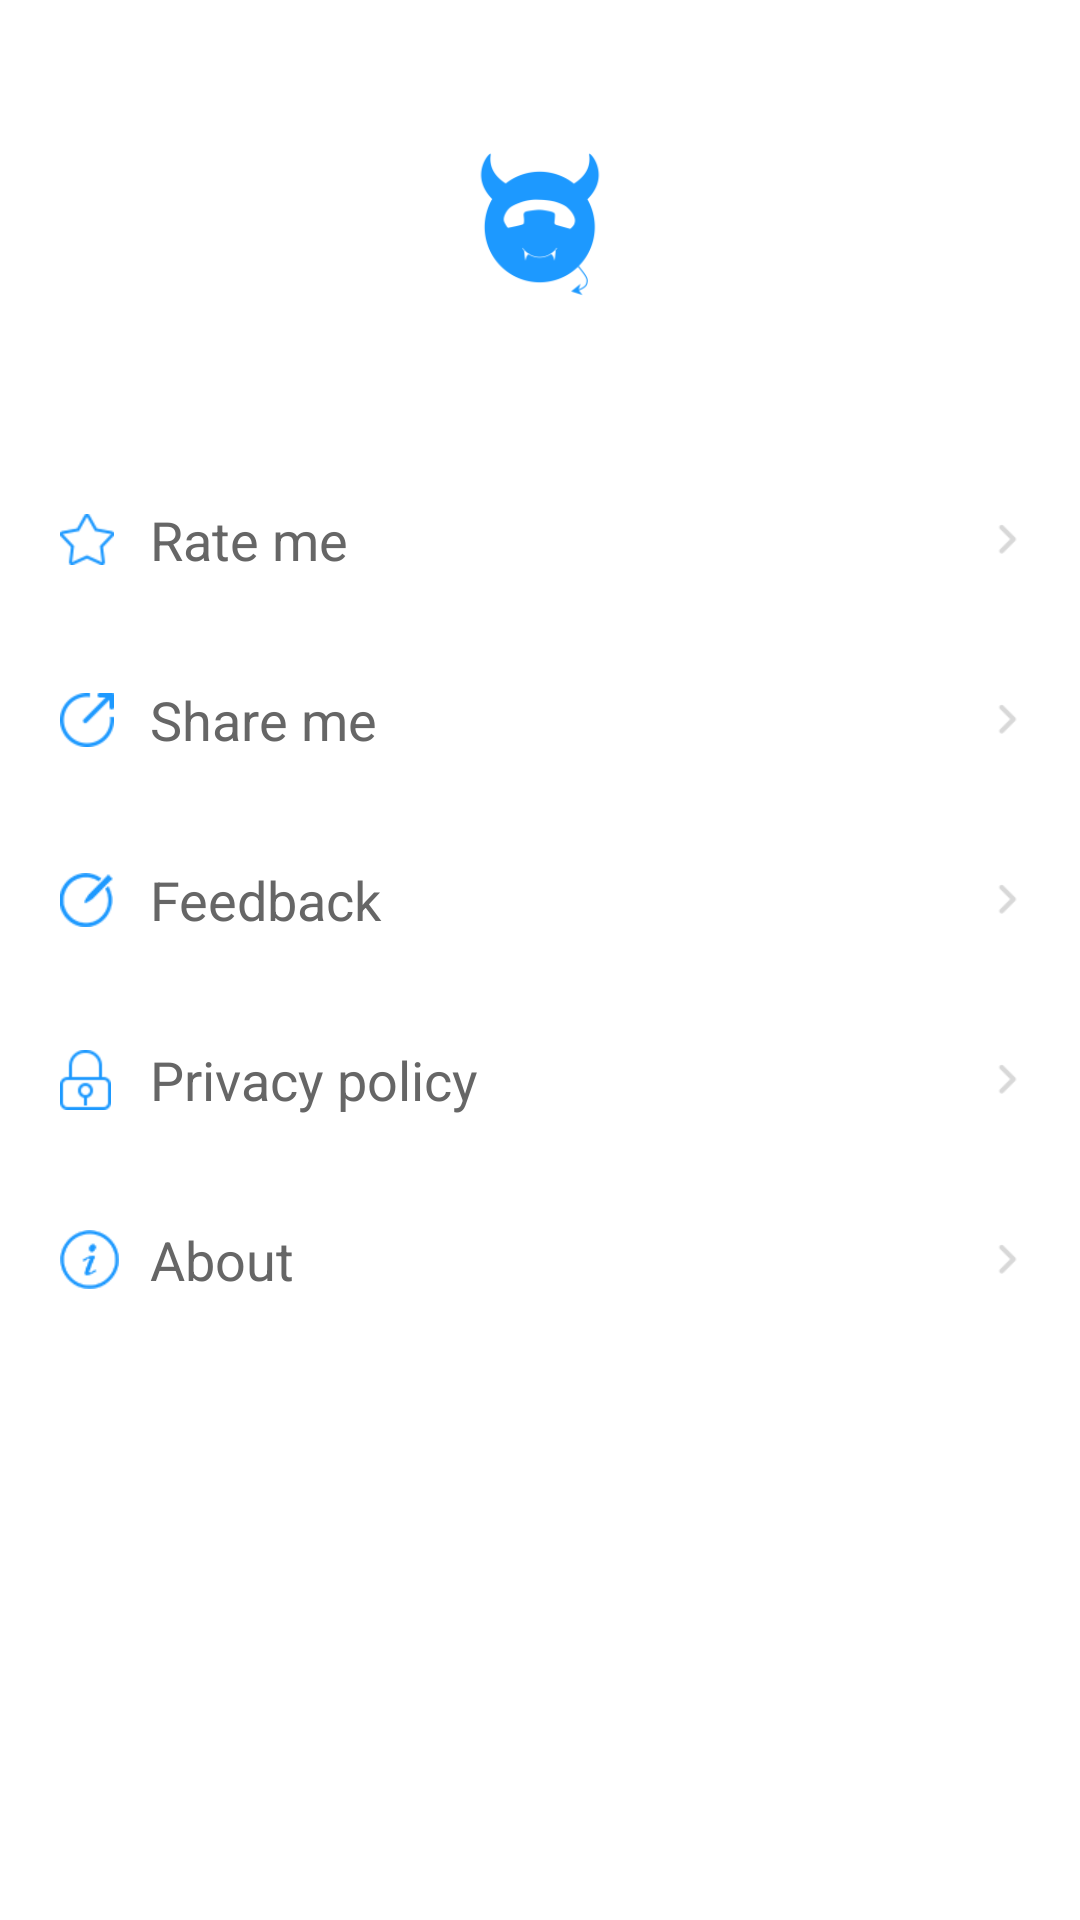

Point at icon controls on the screen. Image size 1080w x 1920h, points as [x,y].
home settings privacy: [85,1080]
home settings rate: [87,539]
home settings share: [87,720]
home settings version: [89,1259]
